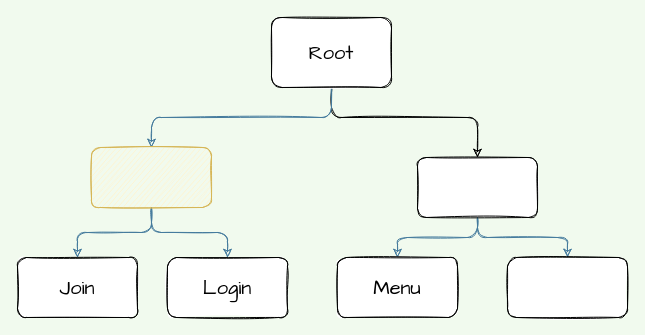
This 645x335 diagram has some shape labels left out. The centre of each missing label's shape, as x and y in pixels:
LoggedIn: pixel 477 187
LoggedOut: pixel 151 177
